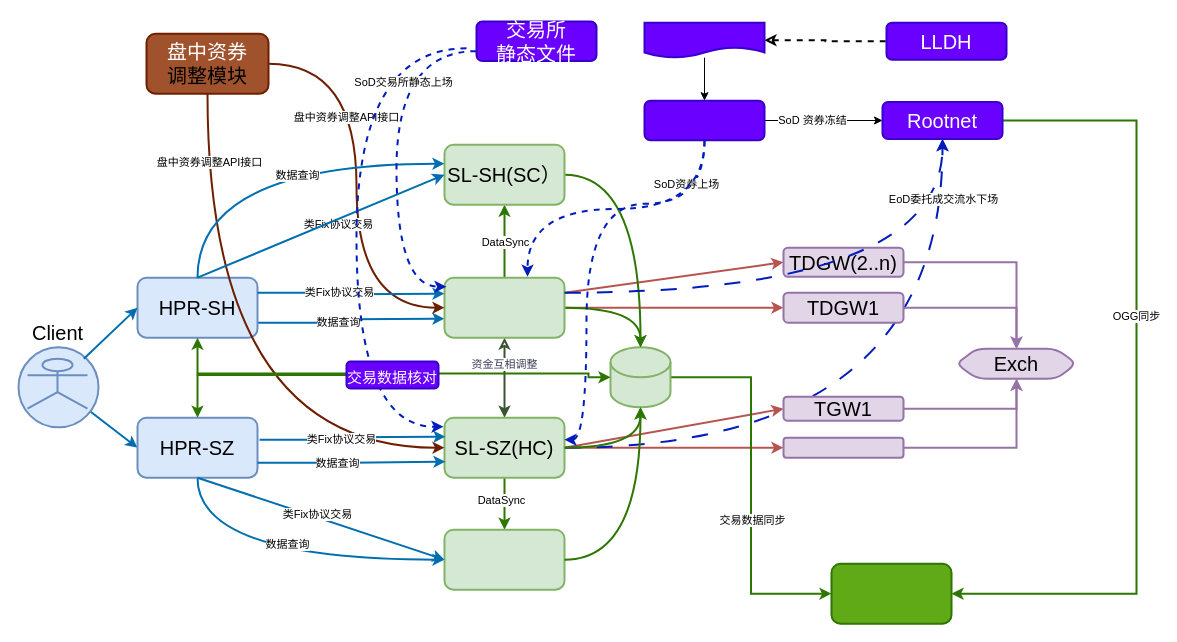
The diagram is 1177 pixels wide and 642 high, and some of its shapes have lost their labels. The shapes that lost their labels are listed below. From the top down, each one's centre as x and y in pixels, then its label:
the point at 704,39: 资券文件
the point at 704,120: 资券调度
the point at 504,307: SL-SH(HC)
the point at 640,377: DB
the point at 843,447: TGW(2..n)
the point at 504,559: SL-SZ(SC)
the point at 891,593: RTRS 风控系统
